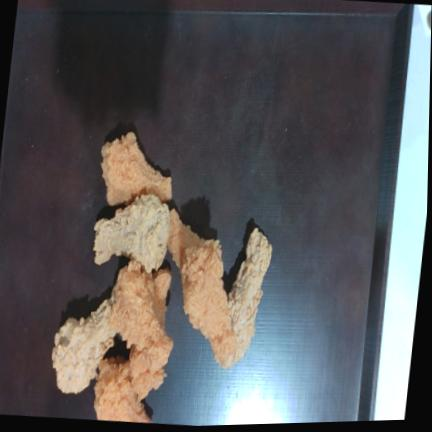chicken: (215, 228, 272, 367), (52, 295, 116, 394), (110, 260, 172, 356), (94, 194, 170, 272), (101, 131, 171, 205), (94, 357, 151, 423)
